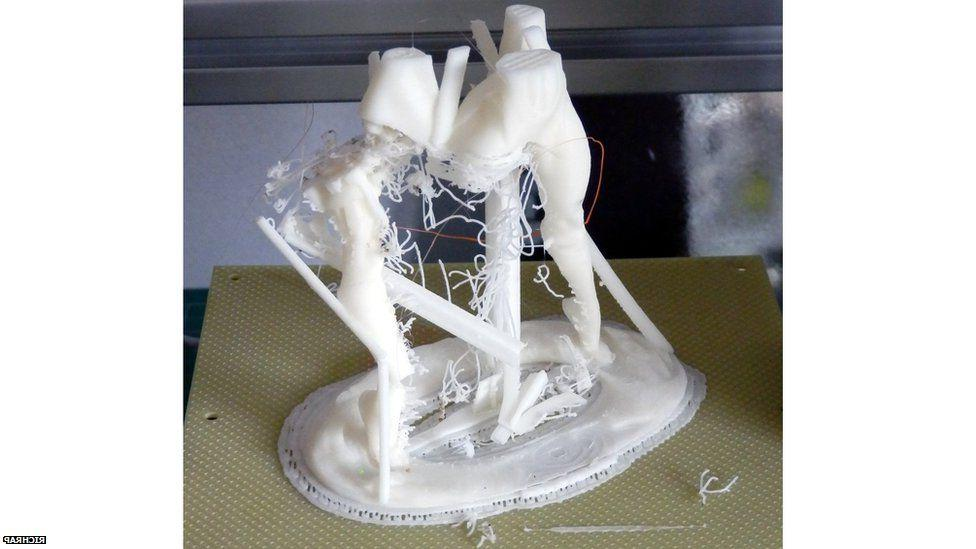Printing-Artifact: (373, 142, 537, 208), (246, 157, 317, 249), (430, 251, 516, 312), (426, 346, 484, 416)
